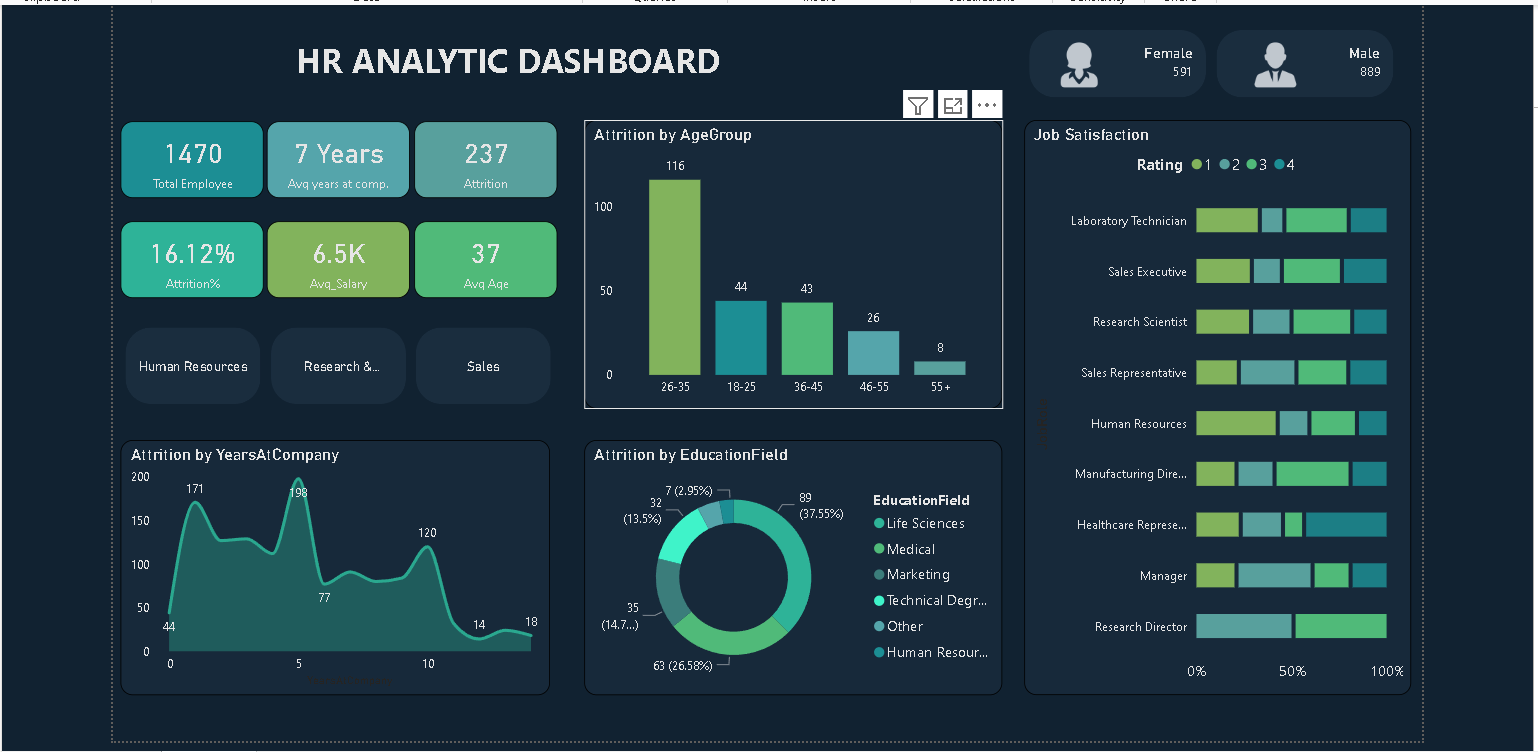

The dashboard page shown, as its layout file describes it:
{"tool":"powerbi","page":{"name":"Page 1","canvas":[1280,720],"ordinal":0},"visuals":[{"type":"image","box":[1110.1,31.6,53.5,53.5],"z":0},{"type":"image","box":[918,31.6,53.5,53.5],"z":1000},{"type":"areaChart","title":"Attrition by YearsAtCompany","fields":{"Y":["CountNonNull(HR_Analytics.Attrition)"],"Category":["HR_Analytics.YearsAtCompany"]},"box":[6.9,425.4,419.9,249.7],"z":2000},{"type":"card","fields":{"Values":["HR_Analytics.Employee_Count"]},"box":[6.9,113.9,140,75.5],"z":3000,"group":"g2"},{"type":"donutChart","title":"Attrition by EducationField","fields":{"Y":["HR_Analytics.Employee_Attrition"],"Category":["HR_Analytics.EducationField"]},"box":[461.1,425.4,408.9,249.7],"z":3000},{"type":"clusteredColumnChart","title":"Attrition by AgeGroup","fields":{"Category":["HR_Analytics.AgeGroup"],"Y":["HR_Analytics.Employee_Attrition"]},"box":[461.1,112.5,408.9,282.7],"z":4000},{"type":"card","fields":{"Values":["HR_Analytics.Years_with_Text"]},"box":[150.3,113.9,140,75.5],"z":4000,"group":"g2"},{"type":"hundredPercentStackedBarChart","title":"Job Satisfaction","fields":{"Y":["HR_Analytics.Employee_Attrition"],"Category":["HR_Analytics.JobRole"],"Series":["HR_Analytics.JobSatisfaction"]},"box":[890.6,112.5,378.7,562.6],"z":5000},{"type":"card","fields":{"Values":["HR_Analytics.Attrition%"]},"box":[6.9,211.3,140,75.5],"z":5000,"group":"g1"},{"type":"advancedSlicerVisual","fields":{"Values":["HR_Analytics.Gender"]},"box":[890.6,19.2,366.4,76.8],"z":6000},{"type":"card","fields":{"Values":["HR_Analytics.Avg_Salary"]},"box":[150.3,211.3,140,75.5],"z":6000,"group":"g1"},{"type":"card","fields":{"Values":["HR_Analytics.Avg_Age"]},"box":[293.7,211.3,140,75.5],"z":7000,"group":"g1"},{"type":"advancedSlicerVisual","fields":{"Values":["HR_Analytics.Department"]},"box":[6.9,310.1,426.8,85.1],"z":7000},{"type":"card","fields":{"Values":["HR_Analytics.Employee_Attrition"]},"box":[293.7,113.9,140,75.5],"z":8000,"group":"g2"},{"type":"group","id":"g1","title":"Group 1","box":[6.9,211.3,426.8,75.5],"z":8000},{"type":"group","id":"g2","title":"Group 2","box":[6.9,113.9,426.8,75.5],"z":9000},{"type":"textbox","box":[93.3,27.4,587.3,60.4],"z":10000}]}

Visuals, with their boxes on the page's 1280x720 design canvas (x1, y1, x2, y2). These are canvas units, not pixel positions in the 1538x752 screenshot, which may show the page scaled, cropped or inside an application window:
image: 1110 32 1164 85
image: 918 32 972 85
"Attrition by YearsAtCompany" areaChart: 7 425 427 675
card - HR_Analytics.Employee_Count: 7 114 147 189
"Attrition by EducationField" donutChart: 461 425 870 675
"Attrition by AgeGroup" clusteredColumnChart: 461 112 870 395
card - HR_Analytics.Years_with_Text: 150 114 290 189
"Job Satisfaction" hundredPercentStackedBarChart: 891 112 1269 675
card - HR_Analytics.Attrition%: 7 211 147 287
advancedSlicerVisual - HR_Analytics.Gender: 891 19 1257 96
card - HR_Analytics.Avg_Salary: 150 211 290 287
card - HR_Analytics.Avg_Age: 294 211 434 287
advancedSlicerVisual - HR_Analytics.Department: 7 310 434 395
card - HR_Analytics.Employee_Attrition: 294 114 434 189
"Group 1" group: 7 211 434 287
"Group 2" group: 7 114 434 189
textbox: 93 27 681 88
